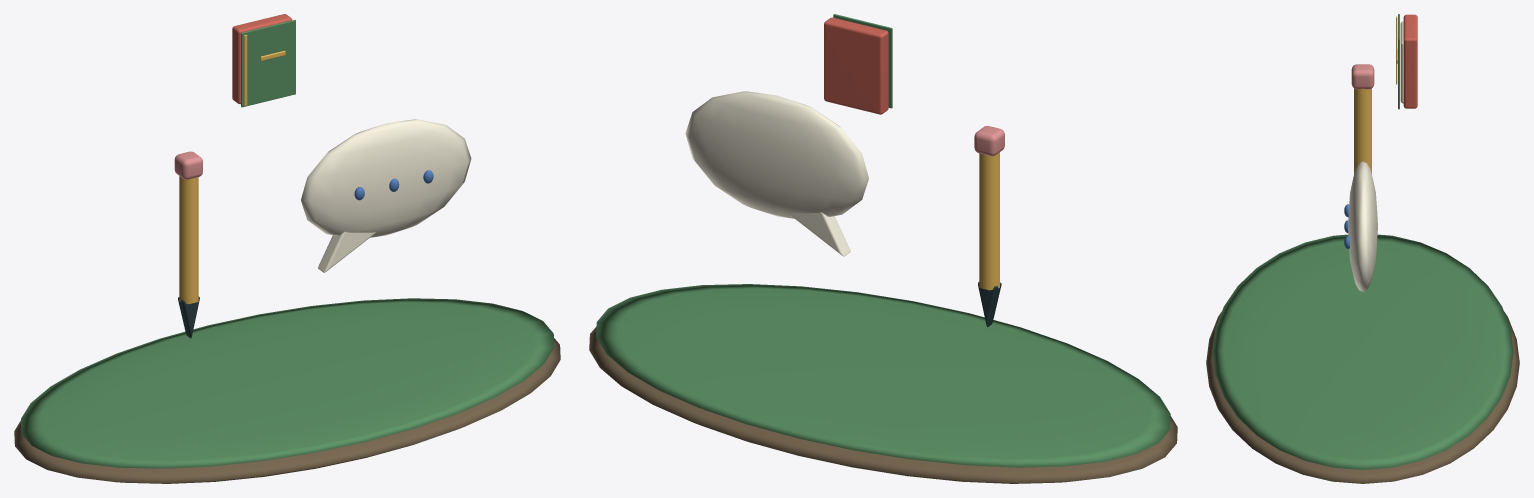
The model's file is complete-third-making-narrator.glb.
3 views of the same model, side by side, from view 1: azimuth 30°, elevation 25°; view 2: azimuth 150°, elevation 25°; view 3: azimuth 270°, elevation 25° (orthographic). The views are drawn at different scales.
Parts seen in each view (by area): view 1: complete-third-making-narrator_surface_01, complete-third-making-narrator_surface_05, complete-third-making-narrator_surface_00, complete-third-making-narrator_surface_02, complete-third-making-narrator_surface_07, complete-third-making-narrator_surface_04; view 2: complete-third-making-narrator_surface_01, complete-third-making-narrator_surface_05, complete-third-making-narrator_surface_00, complete-third-making-narrator_surface_07, complete-third-making-narrator_surface_02, complete-third-making-narrator_surface_04; view 3: complete-third-making-narrator_surface_01, complete-third-making-narrator_surface_00, complete-third-making-narrator_surface_05, complete-third-making-narrator_surface_02, complete-third-making-narrator_surface_07, complete-third-making-narrator_surface_04.
Boxes of the visible parts, x1=… form: complete-third-making-narrator_surface_01: x1=21, y1=20, x2=553, y2=468; complete-third-making-narrator_surface_05: x1=301, y1=119, x2=471, y2=272; complete-third-making-narrator_surface_00: x1=14, y1=338, x2=560, y2=483; complete-third-making-narrator_surface_02: x1=179, y1=34, x2=285, y2=304; complete-third-making-narrator_surface_07: x1=232, y1=14, x2=292, y2=104; complete-third-making-narrator_surface_04: x1=174, y1=151, x2=202, y2=179; complete-third-making-narrator_surface_01: x1=596, y1=14, x2=1170, y2=467; complete-third-making-narrator_surface_05: x1=685, y1=91, x2=868, y2=256; complete-third-making-narrator_surface_00: x1=589, y1=326, x2=1177, y2=483; complete-third-making-narrator_surface_07: x1=824, y1=17, x2=888, y2=114; complete-third-making-narrator_surface_02: x1=979, y1=152, x2=999, y2=290; complete-third-making-narrator_surface_04: x1=974, y1=126, x2=1004, y2=156; complete-third-making-narrator_surface_01: x1=1212, y1=14, x2=1513, y2=469; complete-third-making-narrator_surface_00: x1=1206, y1=312, x2=1519, y2=483; complete-third-making-narrator_surface_05: x1=1348, y1=161, x2=1377, y2=291; complete-third-making-narrator_surface_02: x1=1354, y1=16, x2=1397, y2=173; complete-third-making-narrator_surface_07: x1=1403, y1=14, x2=1417, y2=108; complete-third-making-narrator_surface_04: x1=1351, y1=64, x2=1374, y2=89.
Size of the model in its own units: 4.56 by 3.09 by 2.5.
